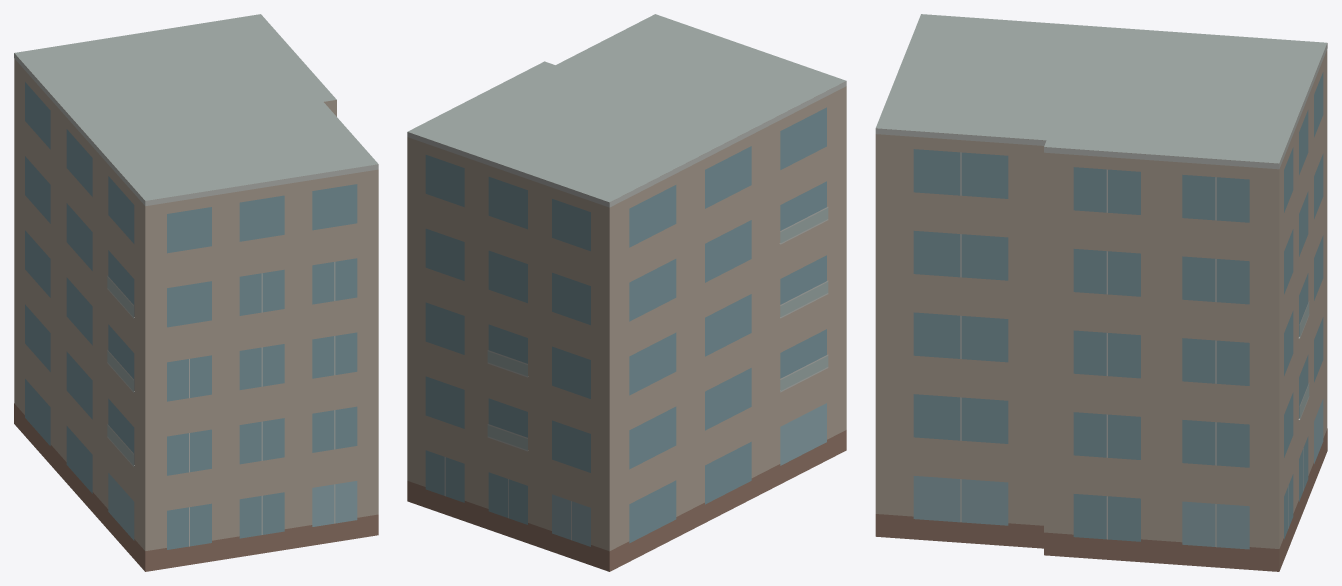
Rendered from survey-upis-32584987.glb.
3 views of the same model, side by side, from view 1: azimuth 30°, elevation 25°; view 2: azimuth 150°, elevation 25°; view 3: azimuth 270°, elevation 25° (orthographic). The views are drawn at different scales.
Visible parts, largest first — view 1: survey-upis-32584987.tmp; view 2: survey-upis-32584987.tmp; view 3: survey-upis-32584987.tmp.
Boxes of the visible parts, box(x1,y1,x2,y2) form: survey-upis-32584987.tmp: box(14, 14, 378, 571); survey-upis-32584987.tmp: box(407, 14, 846, 571); survey-upis-32584987.tmp: box(875, 14, 1327, 571).
Size of the model in its own units: 13.52 by 17.2 by 17.26.
